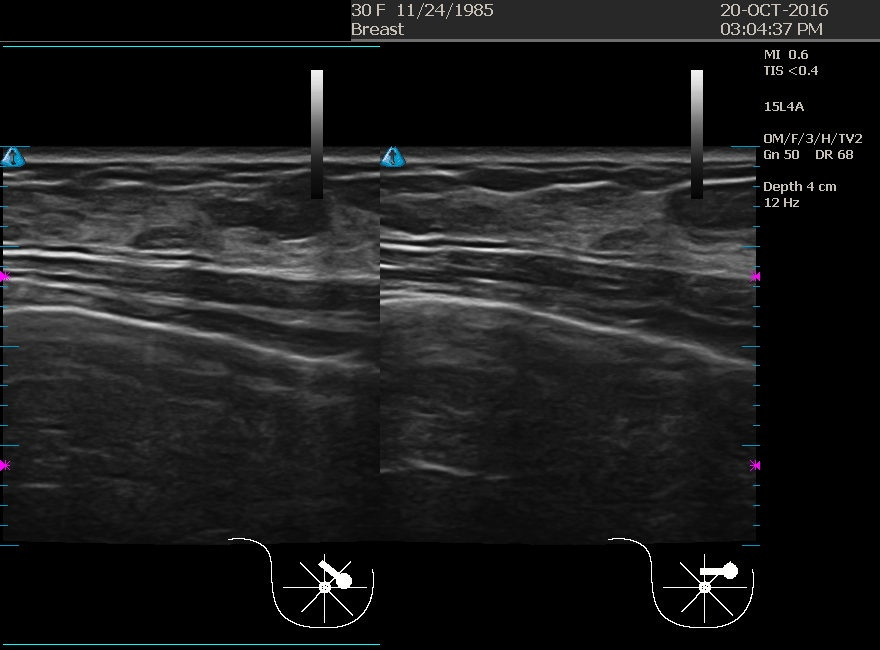BIRADS_2: (43, 155, 243, 355), (484, 151, 684, 351)
